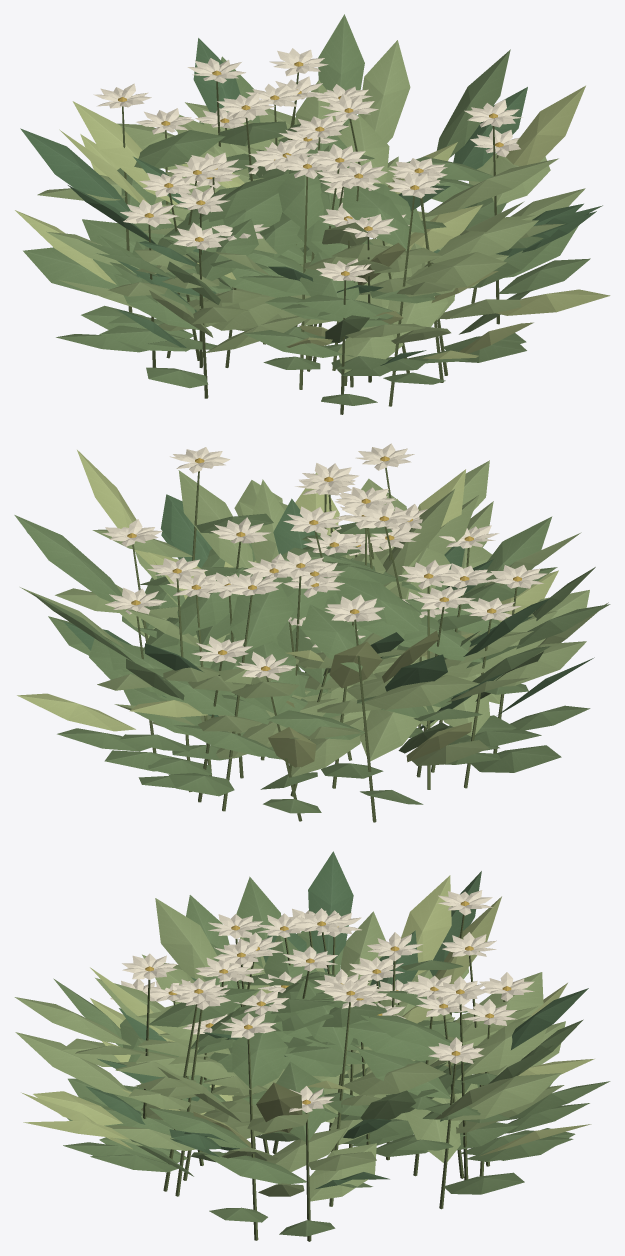
File: Flowers1.fbx
3 renders of one model, top to bottom at view 1: azimuth 30°, elevation 25°; view 2: azimuth 150°, elevation 25°; view 3: azimuth 270°, elevation 25°, orthographic. The views are drawn at different scales.
Parts seen in each view (by area): view 1: Flowers1_LOD0; view 2: Flowers1_LOD0; view 3: Flowers1_LOD0.
Part boxes in pixels (bbox=[...]): Flowers1_LOD0: bbox=[15, 14, 610, 414]; Flowers1_LOD0: bbox=[14, 443, 610, 822]; Flowers1_LOD0: bbox=[14, 851, 610, 1241].
Size of what is drawn, in the model's own units: 113 by 45.77 by 116.
1 material, 1 textured.
